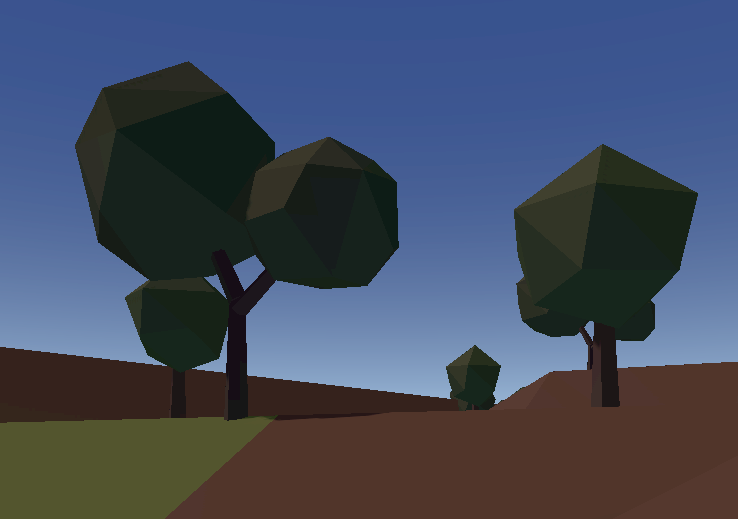tree: (70, 55, 408, 421), (508, 140, 703, 409), (123, 275, 221, 417), (440, 343, 504, 406)
